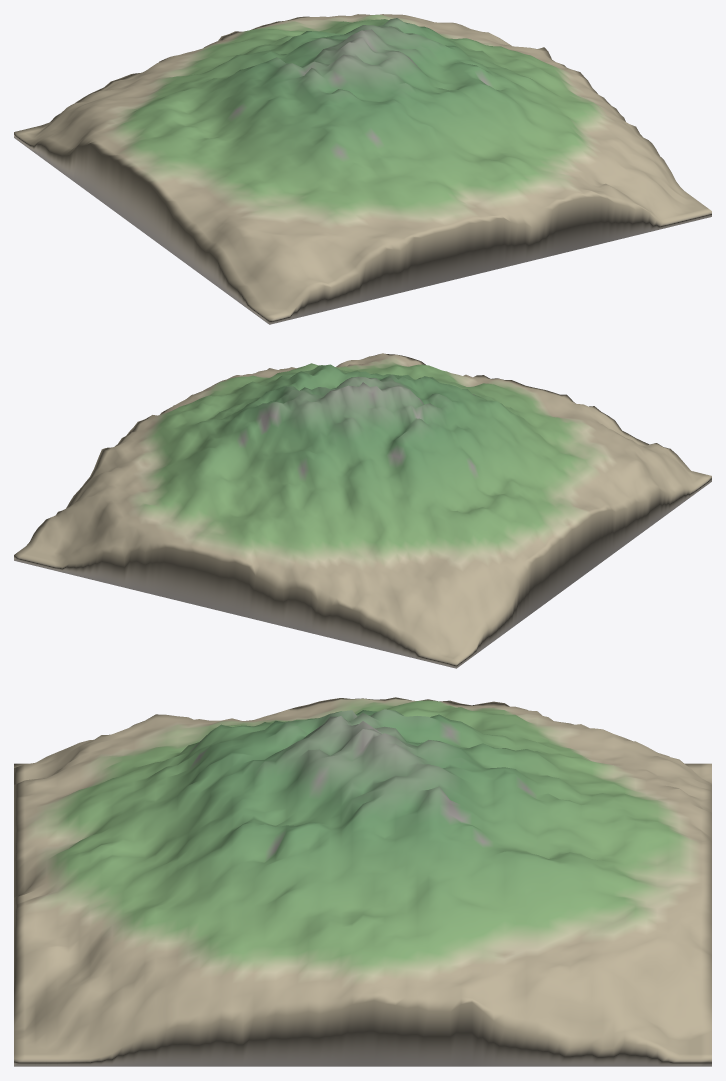
Rendered from gen_rock_islet.glb.
3 views of the same model, one above another, from view 1: azimuth 30°, elevation 25°; view 2: azimuth 150°, elevation 25°; view 3: azimuth 270°, elevation 25° (orthographic). The views are drawn at different scales.
Visible parts, largest first — view 1: gen_rock_islet; view 2: gen_rock_islet; view 3: gen_rock_islet.
Boxes of the visible parts, bbox=[...] form: gen_rock_islet: bbox=[14, 14, 711, 324]; gen_rock_islet: bbox=[14, 353, 711, 668]; gen_rock_islet: bbox=[14, 697, 711, 1066].
Size of the model in its own units: 20 by 6.03 by 20.
